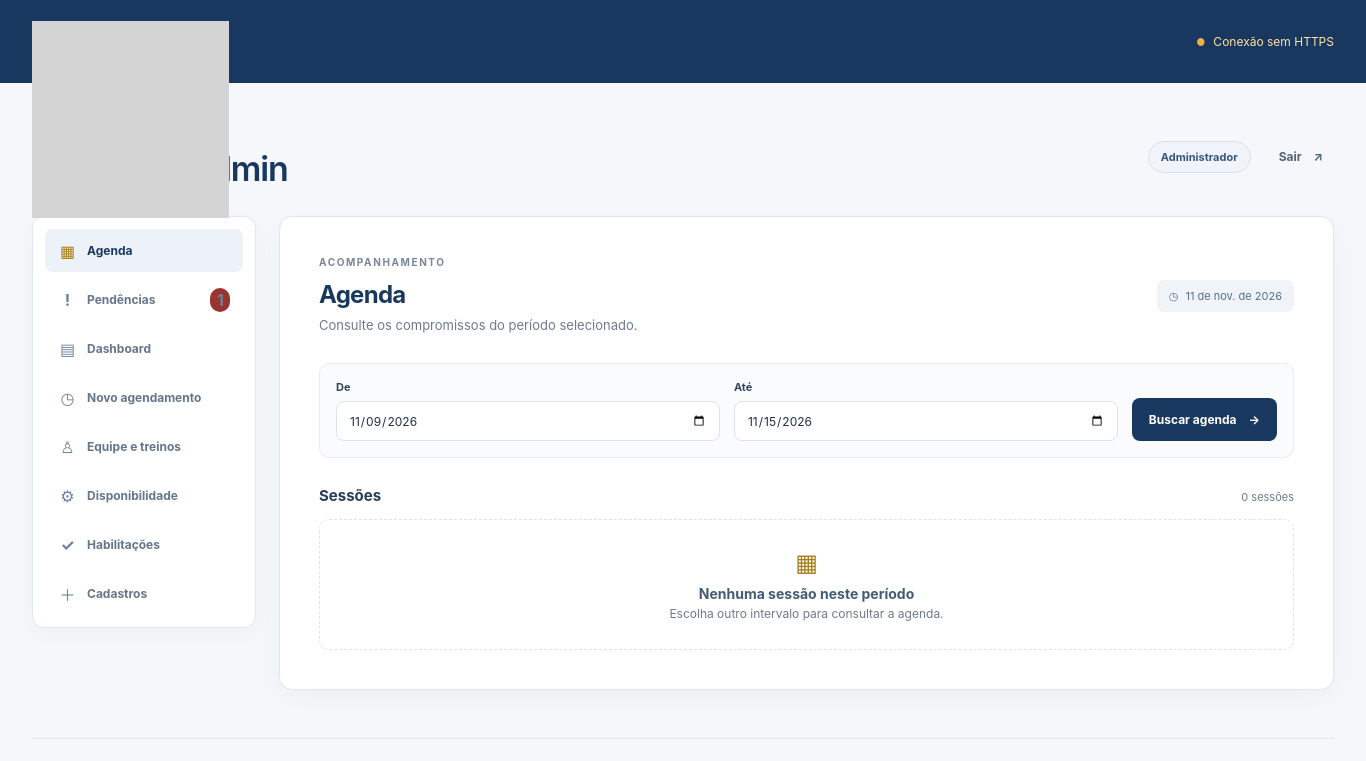
Test: Revisão da interface › mostra o contador de pendências no menu e abre a sessão pelo atalho
Expected: the text named "1 pendências" is shown, [210,288,230,312]
Click the button "! Pendências 1" at (144, 300), box [45,278,243,321]
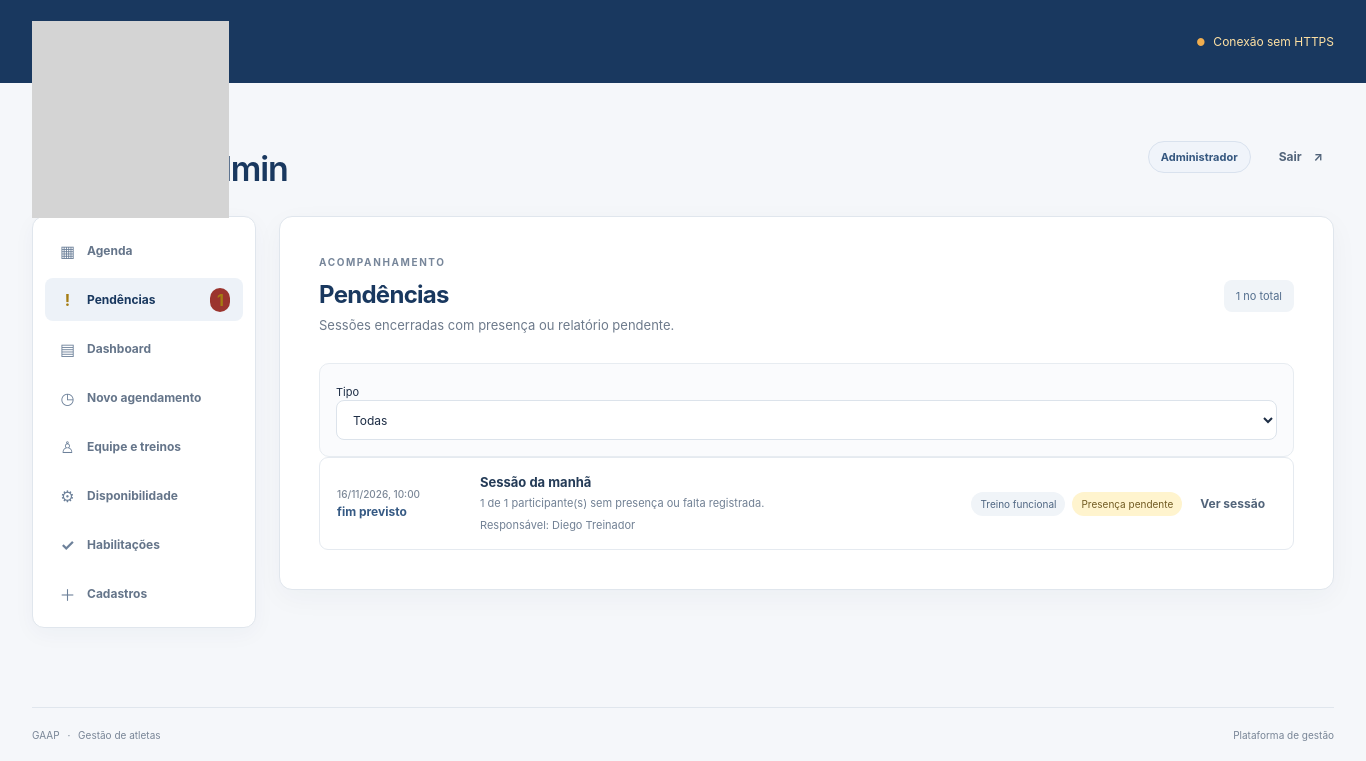
Click the button "Ver sessão" at (1233, 504), box [1189,482,1276,525]
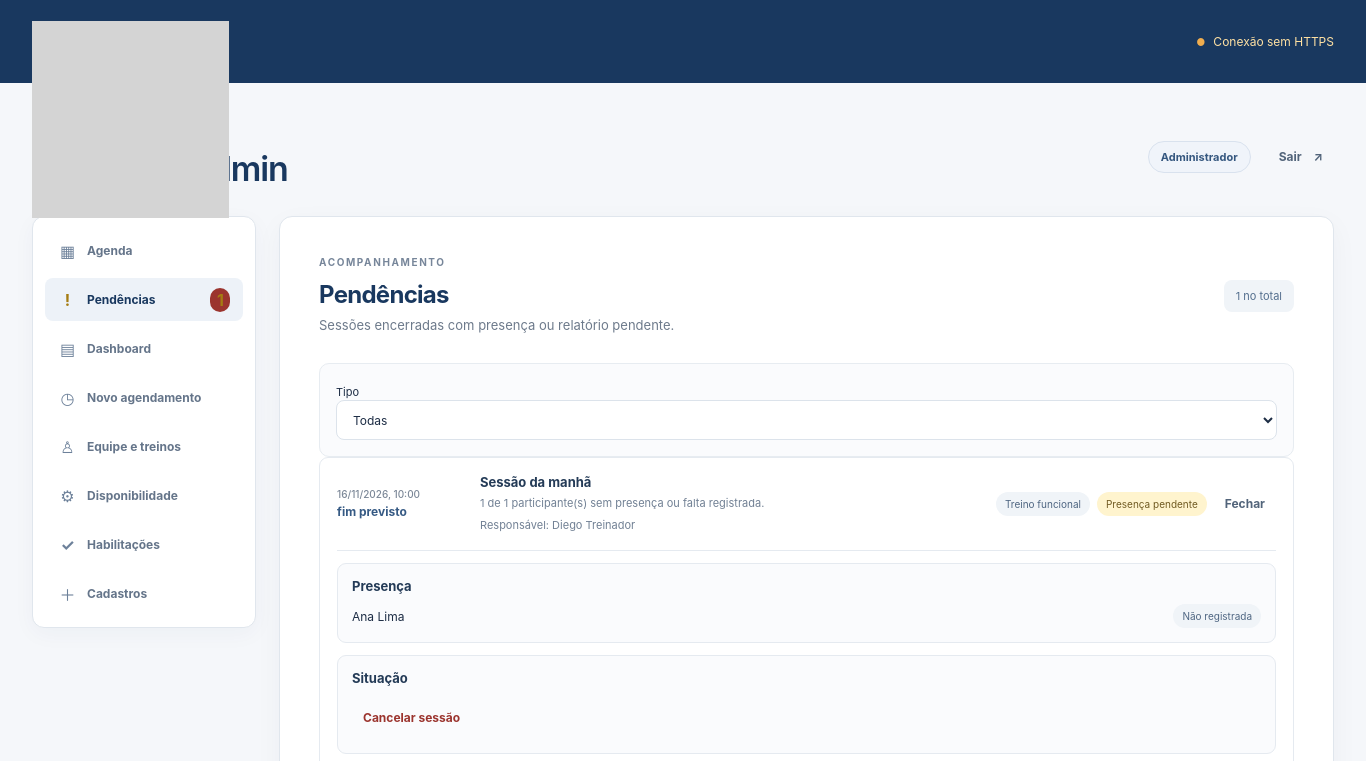
Result: the text "Não registrada" is shown at [1173,604,1261,628]
Result: the text "Ana Lima" is shown at [352,609,404,624]
